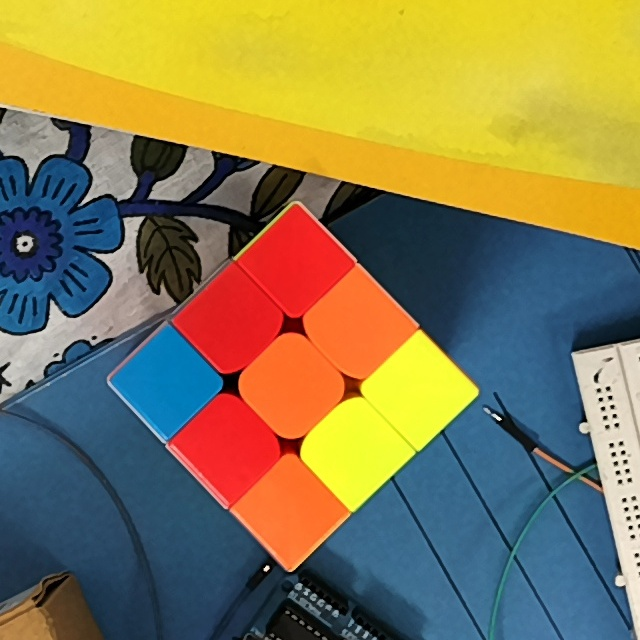tile: (263, 355, 323, 418), (139, 353, 198, 412), (329, 294, 386, 355), (200, 417, 256, 479), (262, 480, 319, 540), (326, 420, 383, 479), (202, 291, 258, 349), (395, 358, 450, 417), (269, 235, 323, 292)
